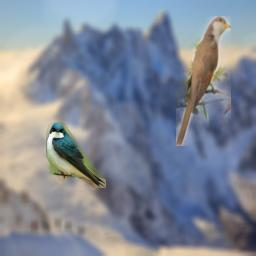Cuckoo: (176, 16, 231, 146)
Swallow: (46, 122, 106, 188)
